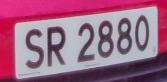0: (133, 10, 151, 58)
2: (75, 17, 98, 69)
8: (115, 12, 134, 61), (96, 16, 115, 64)
R: (44, 21, 69, 72)
S: (22, 24, 46, 74)
